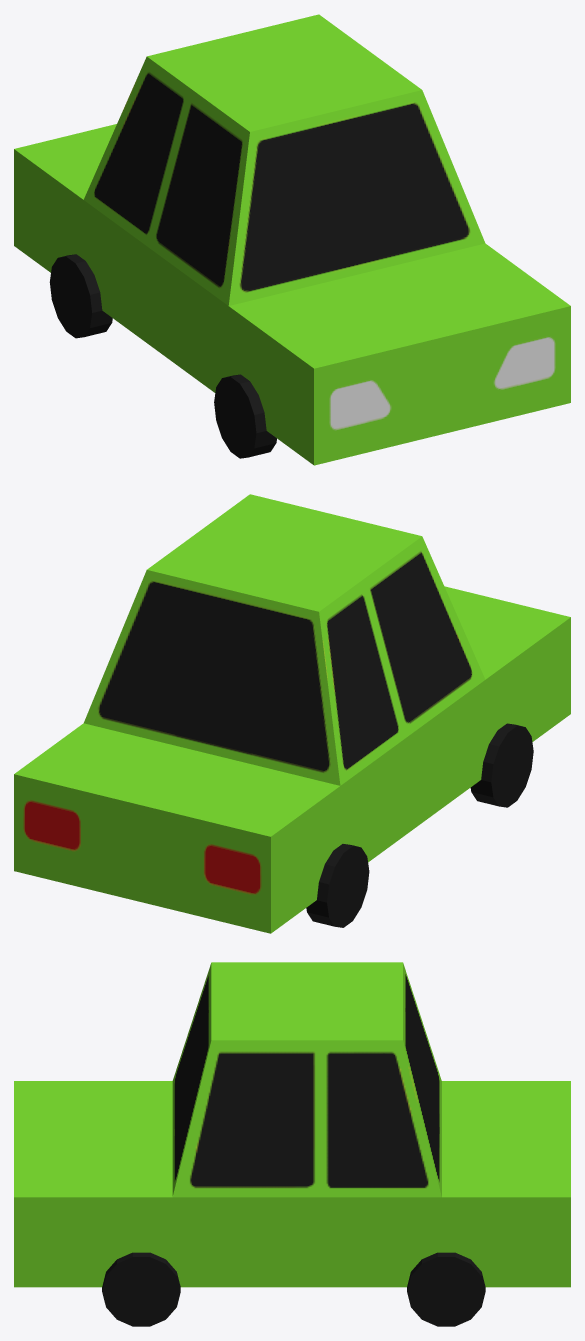
File: Car_Green.fbx
3 views of the same model, one above another, from view 1: azimuth 30°, elevation 25°; view 2: azimuth 150°, elevation 25°; view 3: azimuth 270°, elevation 25° (orthographic). The views are drawn at different scales.
Parts seen in each view (by area): view 1: Car_Green; view 2: Car_Green; view 3: Car_Green.
Boxes of the visible parts, bbox=[...] form: Car_Green: bbox=[14, 14, 570, 465]; Car_Green: bbox=[14, 494, 570, 933]; Car_Green: bbox=[14, 962, 570, 1326].
Bounding box in the file's own units: 141 × 138 × 265.
1 material, 1 textured.
